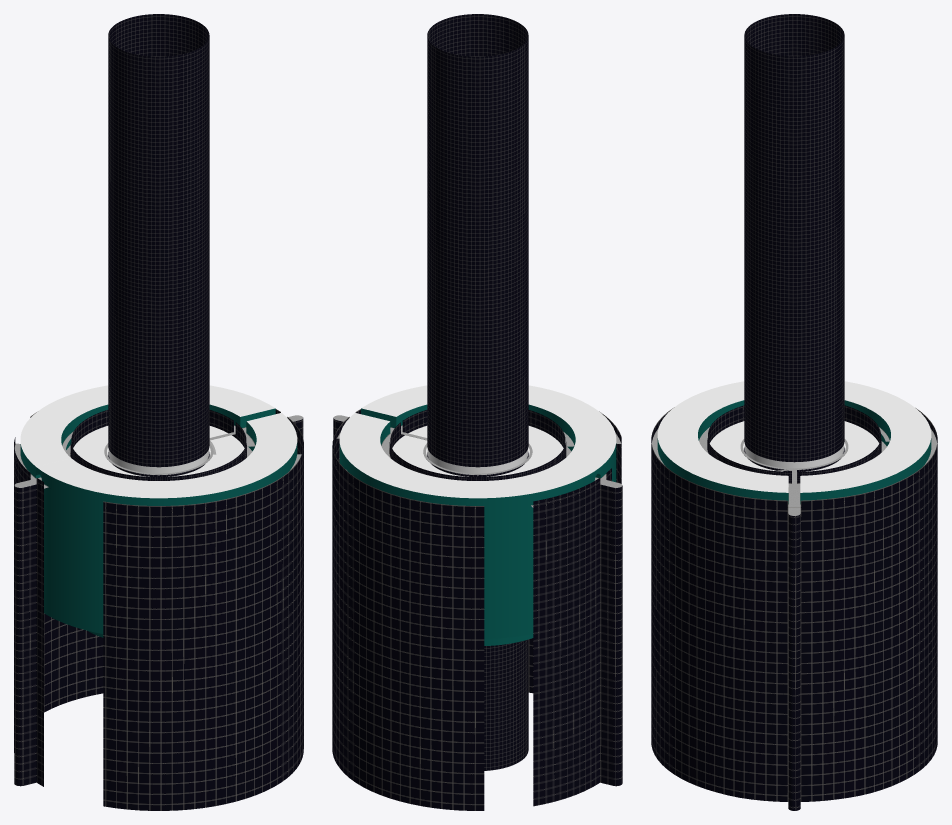
File: stage_3F_tillingwall.fbx
3 renders of one model, left to right at view 1: azimuth 30°, elevation 25°; view 2: azimuth 150°, elevation 25°; view 3: azimuth 270°, elevation 25°, orthographic.
Visible parts, largest first — view 1: pCylinder70, pCylinder71; view 2: pCylinder70, pCylinder71; view 3: pCylinder70, pCylinder71.
Boxes of the visible parts, <box> form: pCylinder70: <box>14,14,303,810</box>; pCylinder71: <box>73,426,244,476</box>; pCylinder70: <box>332,14,622,810</box>; pCylinder71: <box>392,426,563,476</box>; pCylinder70: <box>651,14,937,810</box>; pCylinder71: <box>709,421,879,471</box>.
Size of the model in its own units: 15587 by 37012 by 13599.
Materials: 5 (2 with a texture image).
